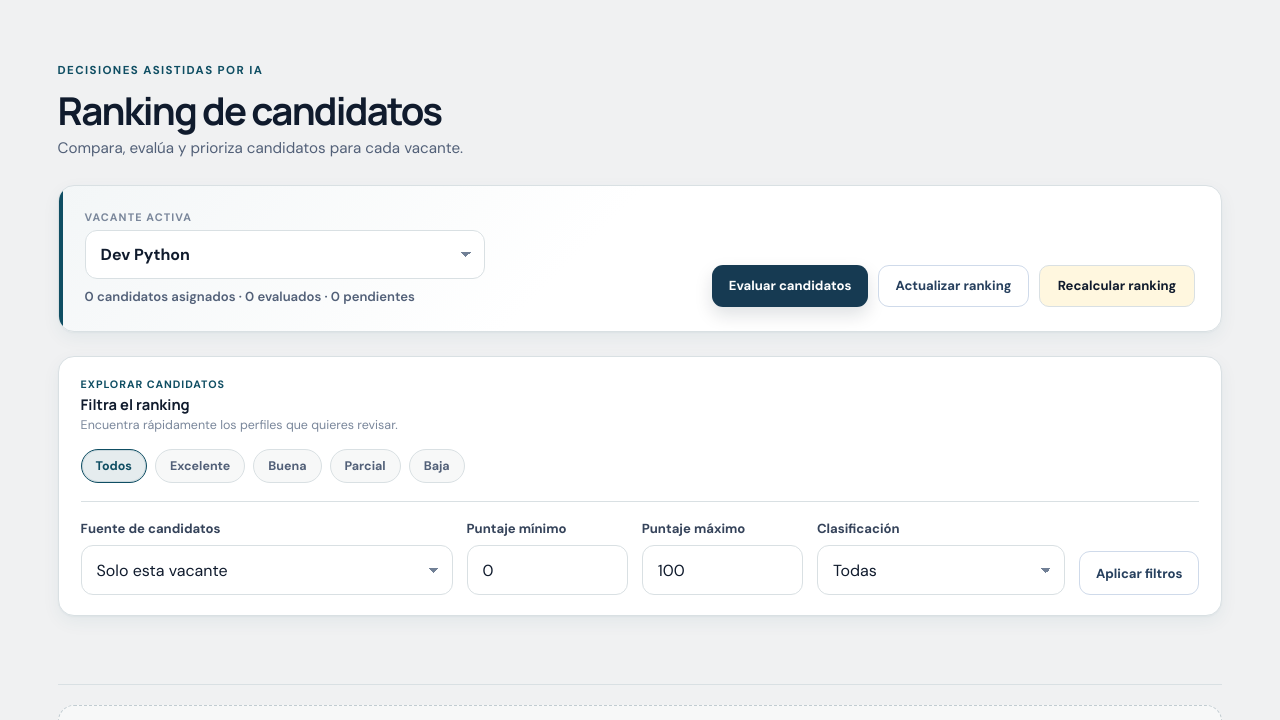
Scenario: Ranking page › Recalcular ranking can be cancelled from the cost disclaimer
The width and height of the screenshot is (1280, 720).
Click the button "Recalcular ranking".
click(1117, 286)  # box [1039, 265, 1195, 307]
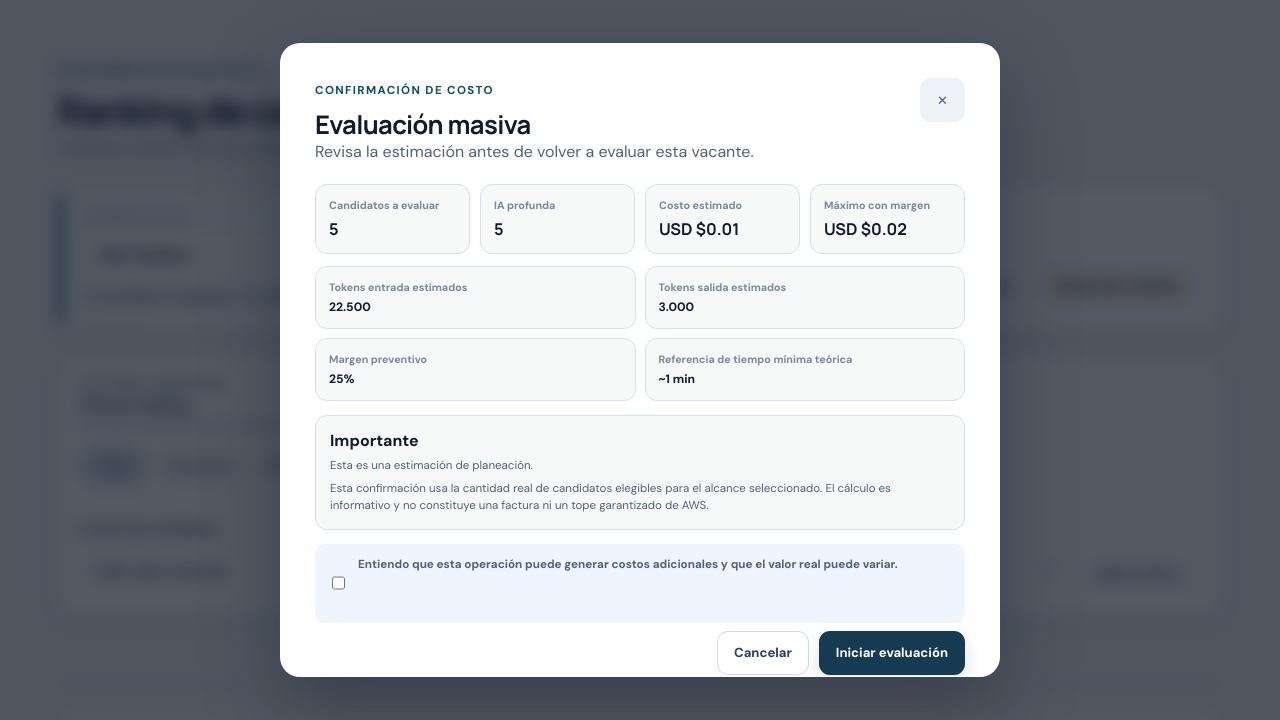
Expected: the heading "Evaluación masiva" is shown, [315, 107, 530, 142]
Click the button "Cancelar".
click(763, 653)  # box [717, 631, 809, 675]
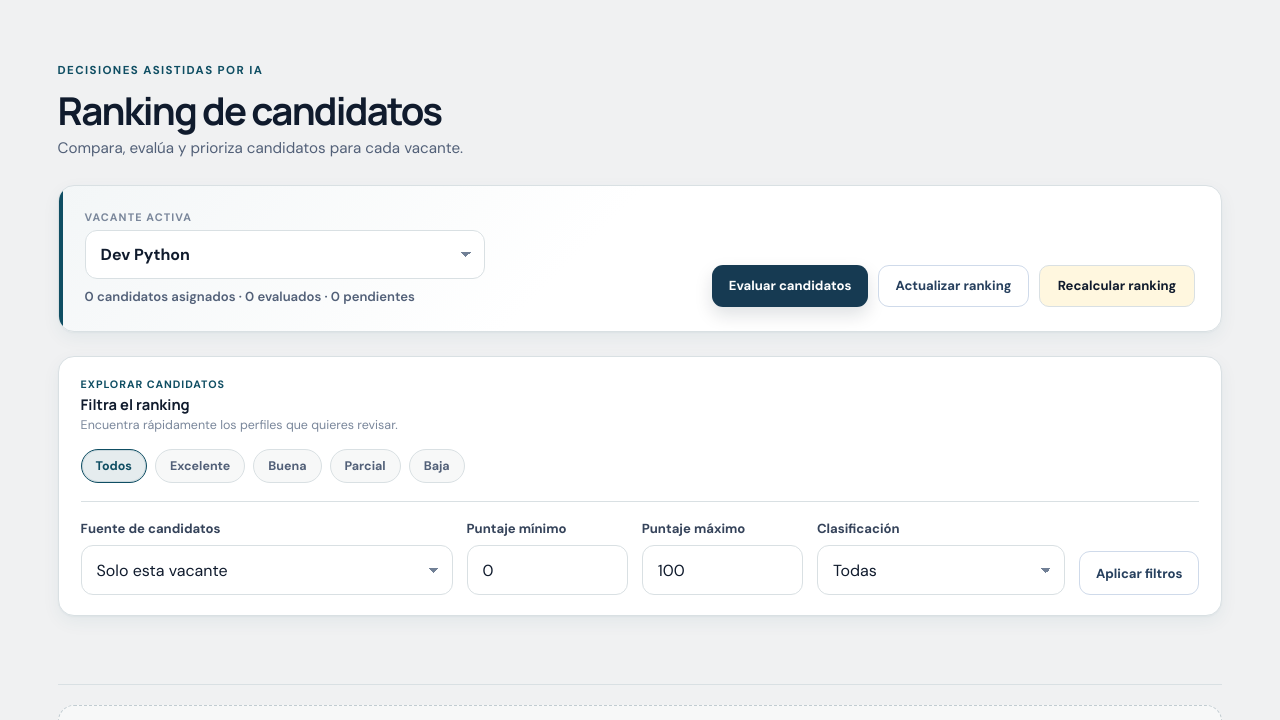
Expected: the heading "Evaluación masiva" is gone
